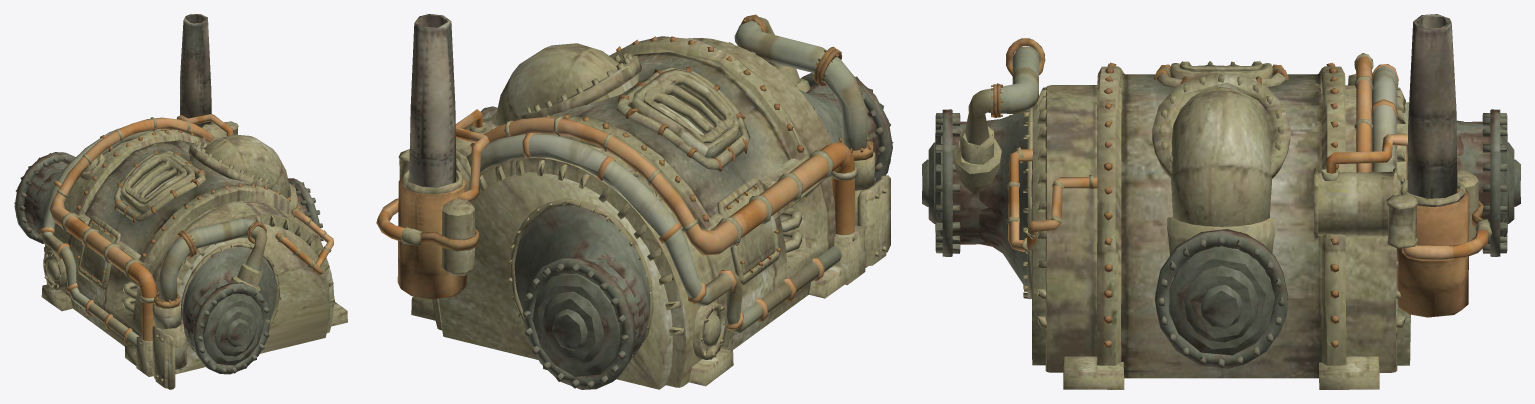
The model's file is boiler-east.glb.
3 views of the same model, side by side, from view 1: azimuth 30°, elevation 25°; view 2: azimuth 150°, elevation 25°; view 3: azimuth 270°, elevation 25° (orthographic). The views are drawn at different scales.
Visible parts, largest first — view 1: body; view 2: body; view 3: body.
Boxes of the visible parts, <box> form: body: <box>14,14,347,389</box>; body: <box>376,14,893,389</box>; body: <box>922,14,1520,389</box>.
Bounding box in the file's own units: 2.03 × 1.96 × 3.09.
1 material, 1 textured.
